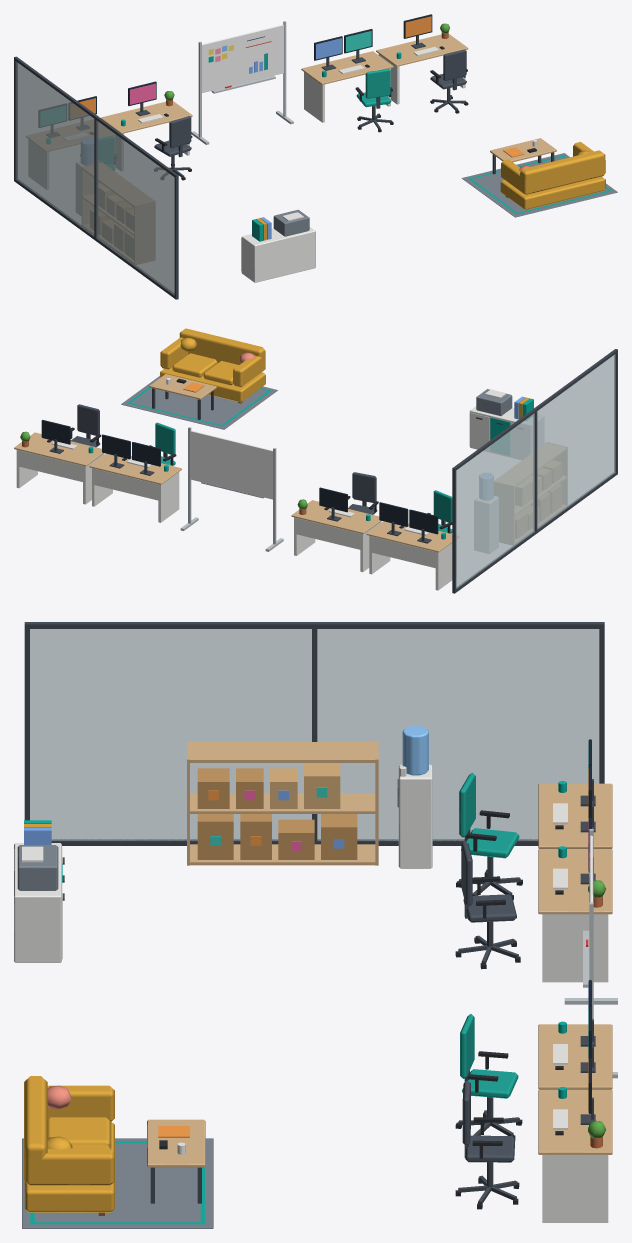
Rendered from einrichtung_buero_shops.glb.
3 renders of one model, top to bottom at view 1: azimuth 30°, elevation 25°; view 2: azimuth 150°, elevation 25°; view 3: azimuth 270°, elevation 25°, orthographic. The views are drawn at different scales.
Visible parts, largest first — view 1: einrichtung_buero_shops; view 2: einrichtung_buero_shops; view 3: einrichtung_buero_shops.
Part boxes in pixels (x1,y1,x2,y2): einrichtung_buero_shops: (14, 14, 617, 299); einrichtung_buero_shops: (14, 328, 617, 593); einrichtung_buero_shops: (14, 622, 617, 1228).
Size of the model in its own units: 8.57 by 2.3 by 5.67.
